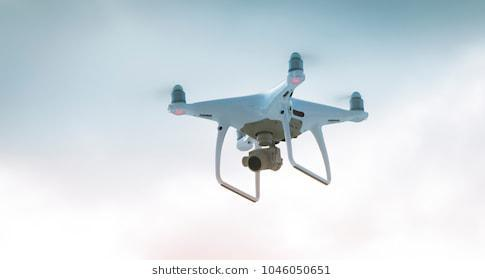drone: (168, 49, 371, 203)
